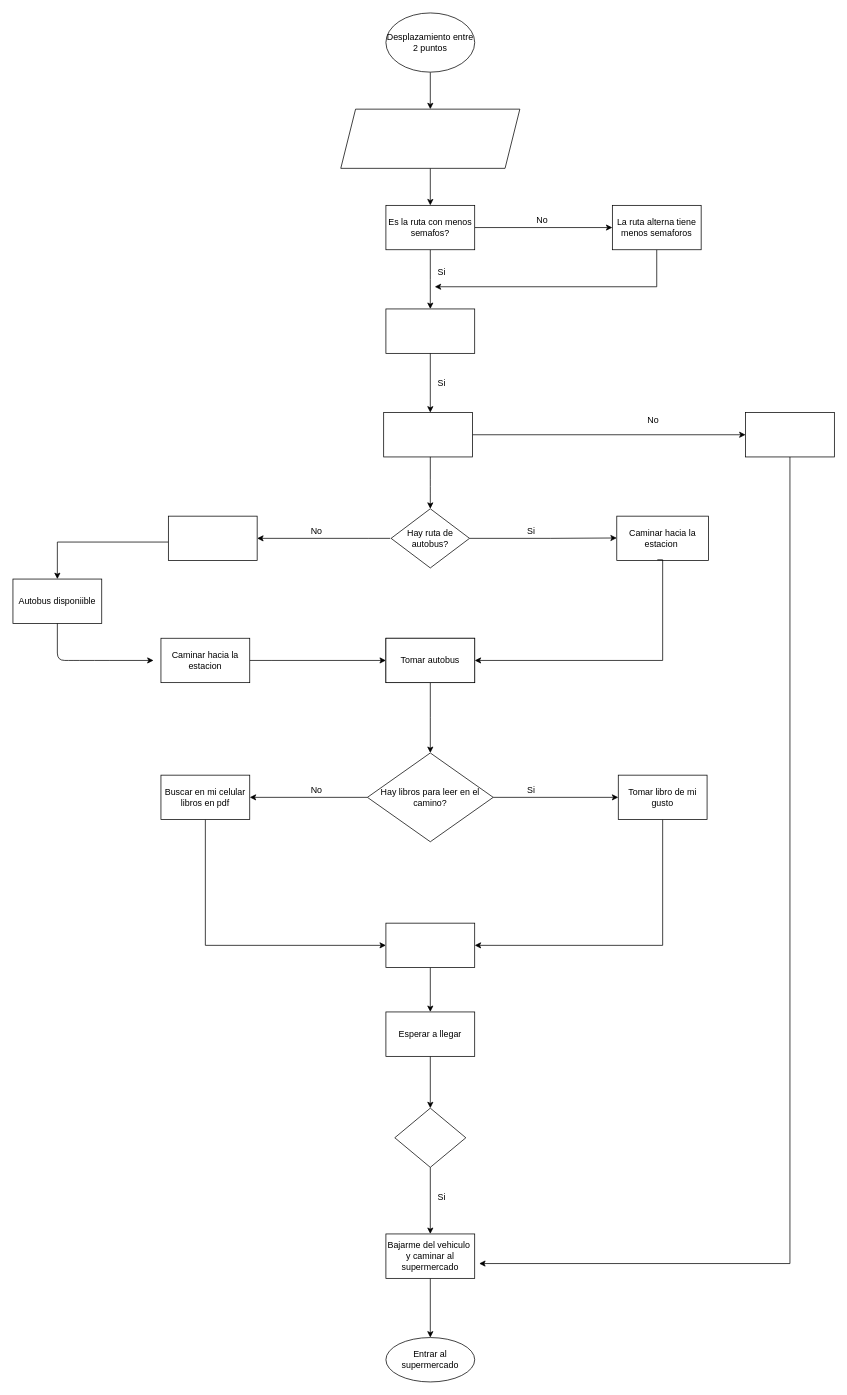
Some shapes in this 847 by 1395 pixel diagram are drawn without their labels. Here are the shapes that lost their labels. From the top down, the centre of each, then its label:
At pixel 430 138: "Buscar la ruta por google maps".
At pixel 430 330: "La ruta alterna demora menos en llegar a mi destino?".
At pixel 427 434: "Es la manera mas economica de ir?".
At pixel 789 434: "Ir en bicicleta electrica".
At pixel 212 538: "Esperar hasta que este disponible".
At pixel 430 945: "Leer".
At pixel 430 1137: "Llegue a mi destino?".
